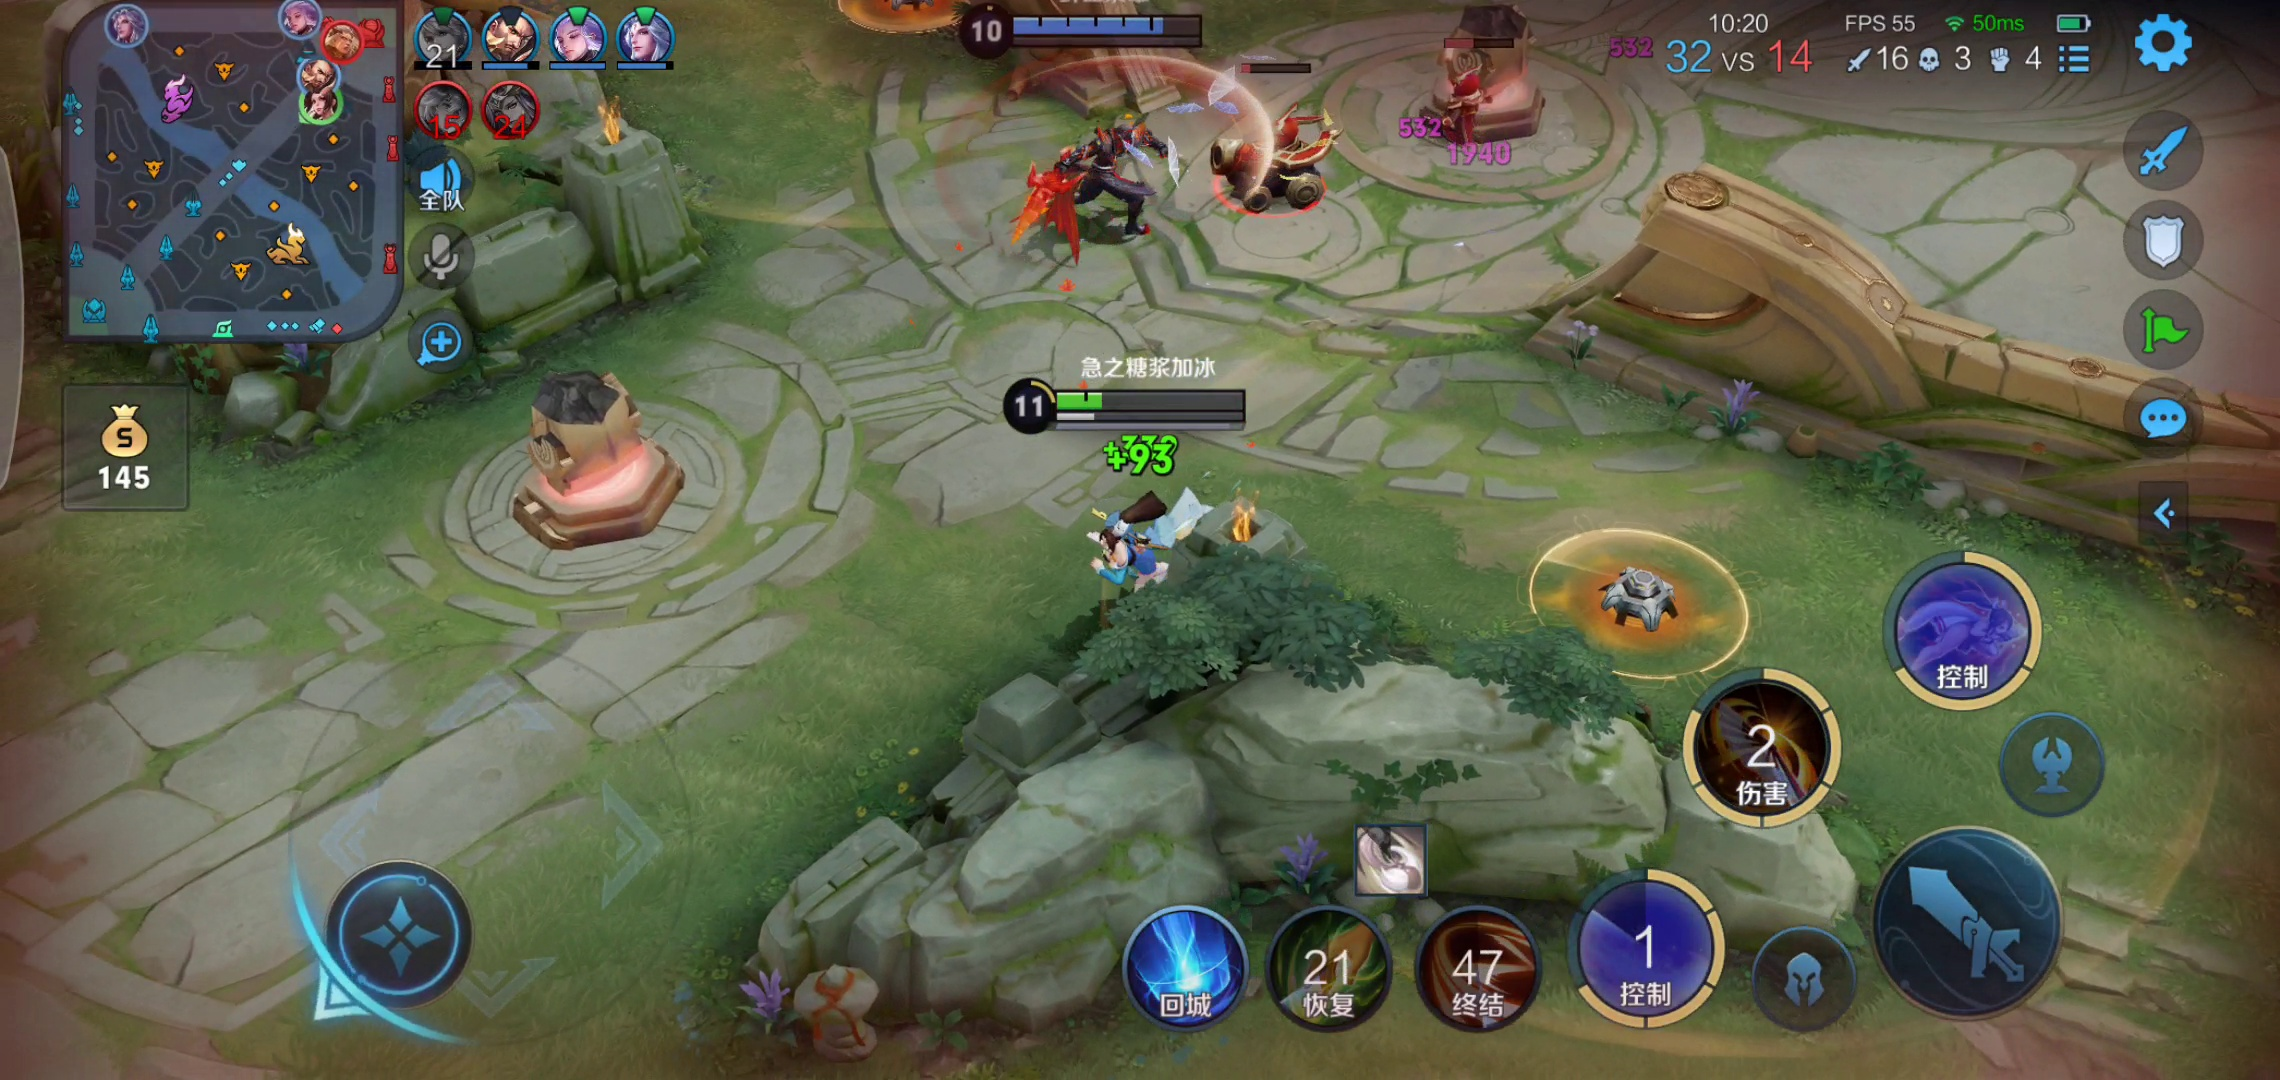hero: (1012, 110, 1189, 253), (1067, 493, 1216, 635)
soldier: (1207, 105, 1333, 219), (1442, 54, 1485, 142)
tower: (491, 363, 699, 557), (1415, 1, 1565, 140)
